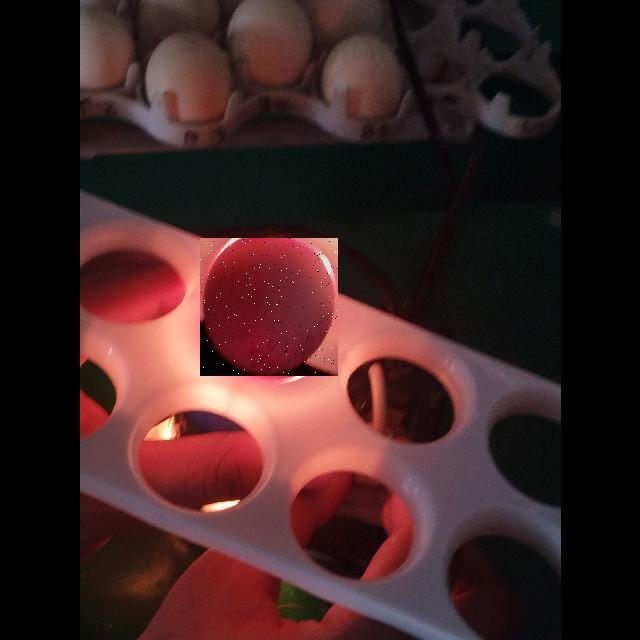Fertile: (200, 238, 338, 376)
